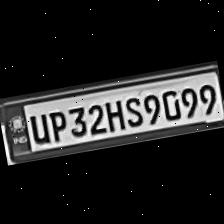0: (156, 84, 182, 120)
2: (82, 99, 106, 135)
3: (63, 100, 88, 136)
9: (192, 78, 218, 115), (176, 81, 200, 118), (139, 87, 162, 123)
H: (100, 94, 125, 130)
P: (42, 106, 68, 142)
S: (119, 91, 145, 128)
U: (24, 108, 50, 144)
